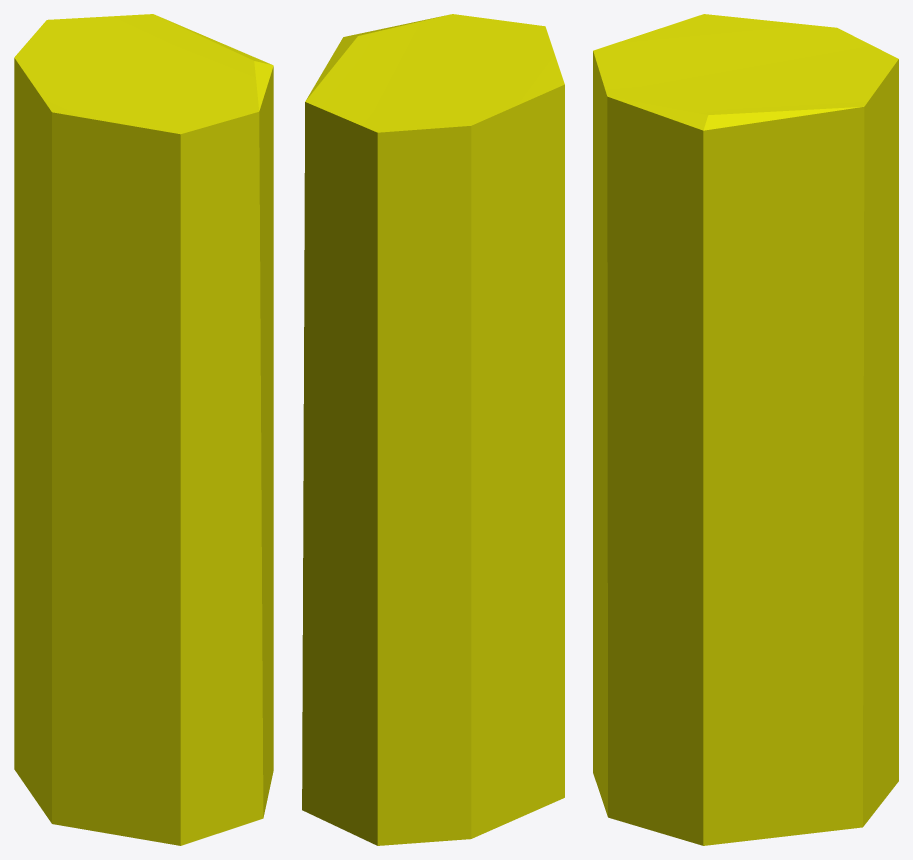
3 renders of one model, left to right at view 1: azimuth 30°, elevation 25°; view 2: azimuth 150°, elevation 25°; view 3: azimuth 270°, elevation 25°, orthographic.
Parts seen in each view (by area): view 1: stone_002; view 2: stone_002; view 3: stone_002.
Part boxes in pixels (<box>): stone_002: <box>14,14,273,845</box>; stone_002: <box>302,14,564,845</box>; stone_002: <box>593,14,898,845</box>.
Size of the model in its own units: 1.31 by 4.02 by 1.54.
Materials: 1 (1 with a texture image).
